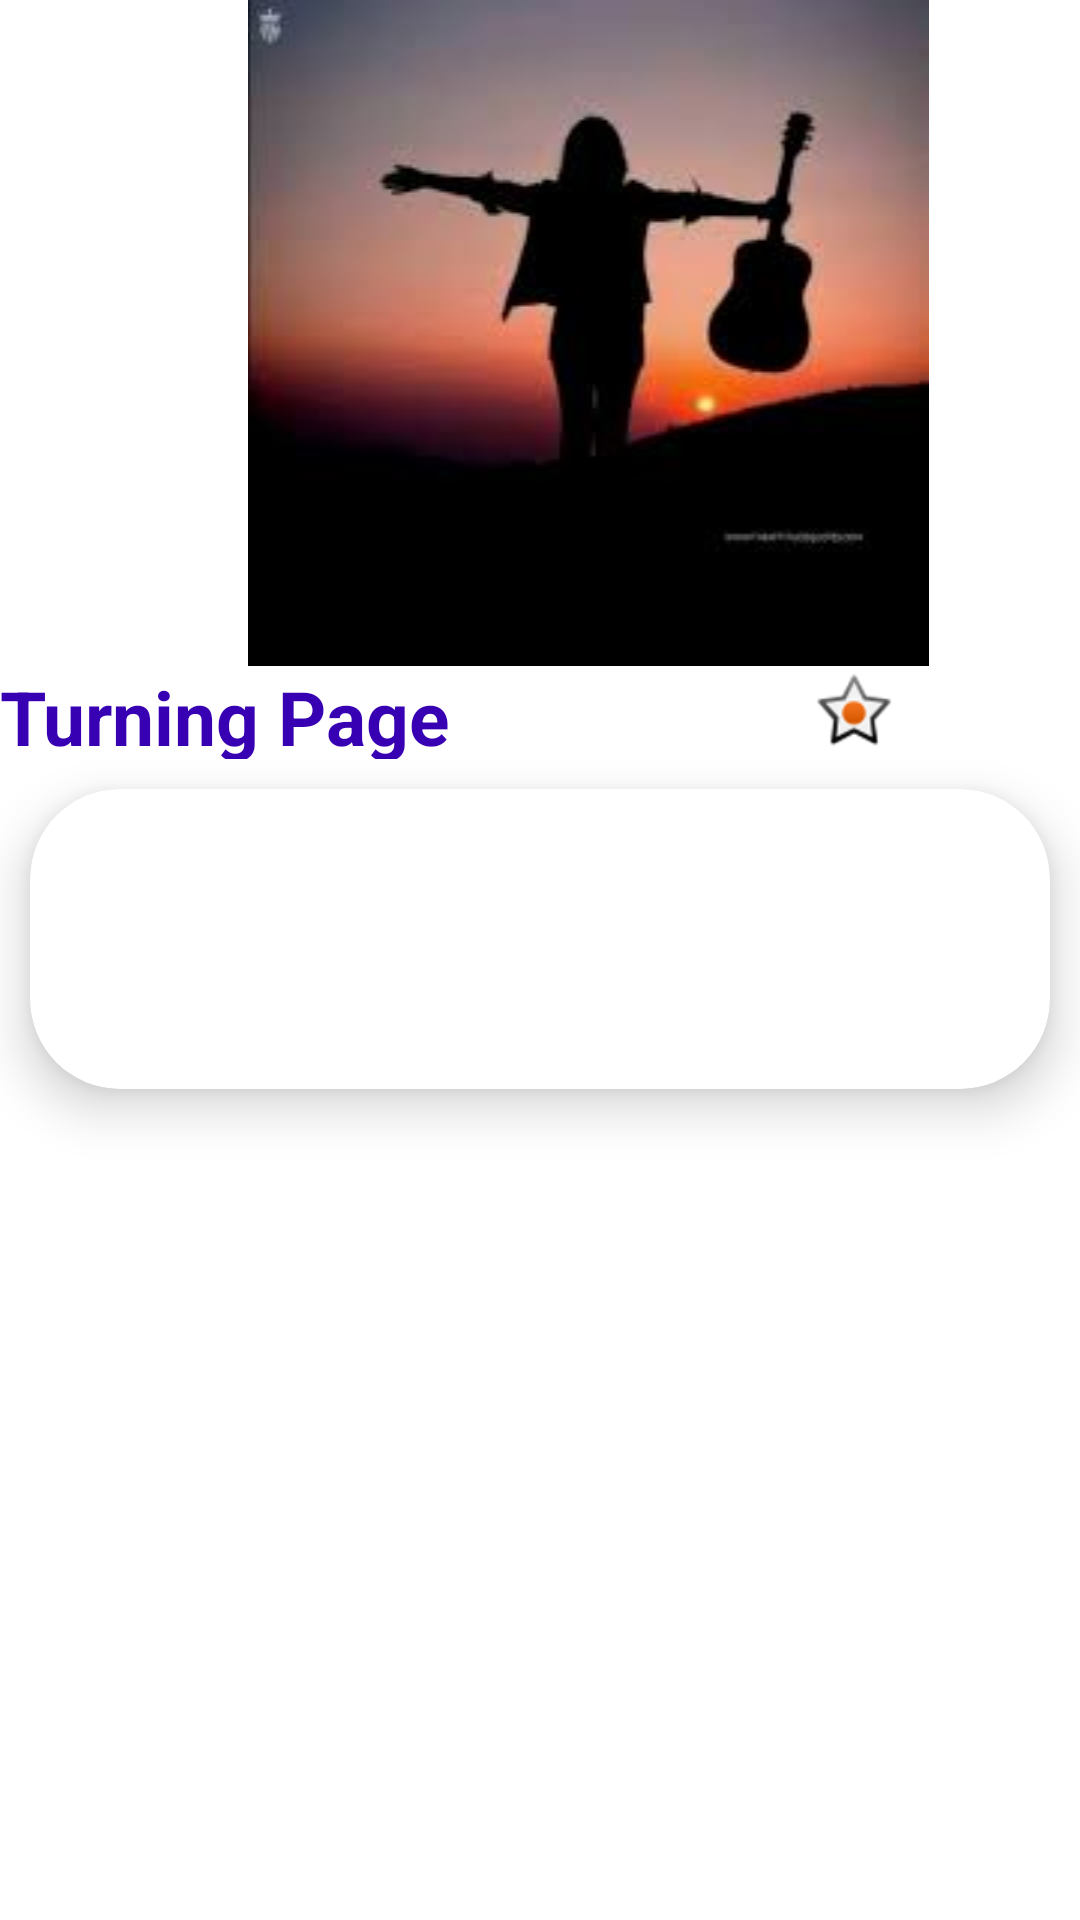

Icons on this 1080px×1920px Android screen, each with its box as [x1=x1, y1=y1, x2=x2, y2=y2]:
star on: [x1=817, y1=675, x2=891, y2=745]
